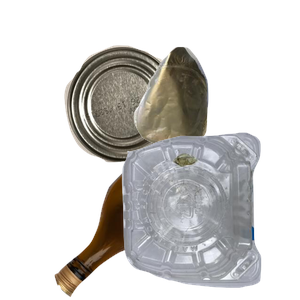glass: (52, 147, 292, 300)
metal: (62, 43, 232, 198)
plastic: (119, 130, 300, 300)
trash: (131, 44, 300, 189)
